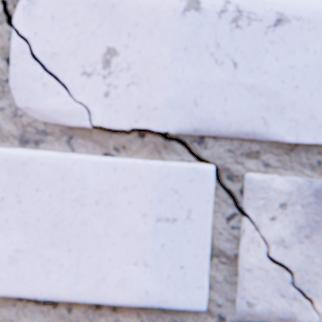brick: (0, 147, 213, 309)
broken_brick: (13, 0, 321, 143), (242, 172, 321, 321), (235, 216, 317, 321), (9, 30, 90, 127)
crack: (1, 0, 319, 321)
